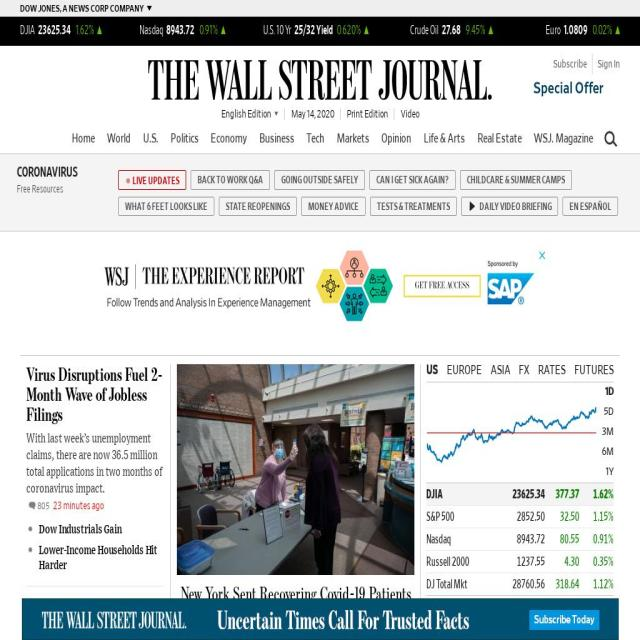button: (177, 364, 414, 575), (142, 46, 498, 100), (426, 626, 613, 640), (517, 76, 620, 101), (460, 170, 572, 190), (461, 197, 558, 216), (118, 197, 214, 216), (274, 170, 365, 190), (370, 170, 456, 190), (520, 600, 614, 618), (370, 197, 457, 216), (528, 127, 600, 149), (191, 170, 270, 190), (20, 4, 156, 15), (219, 197, 297, 216), (118, 170, 186, 190), (301, 197, 366, 216), (472, 127, 528, 149), (418, 127, 471, 149), (426, 600, 485, 618), (205, 127, 253, 149), (563, 197, 618, 216), (220, 105, 278, 123), (253, 127, 300, 149), (331, 127, 375, 149), (376, 127, 418, 149), (164, 127, 204, 149), (101, 127, 137, 149), (66, 127, 100, 149), (300, 127, 330, 149), (597, 125, 619, 154), (138, 127, 164, 149), (28, 500, 50, 512)
heading: (26, 595, 152, 640), (39, 545, 158, 572), (39, 524, 122, 536), (426, 637, 465, 640), (602, 636, 614, 640)
iframe: (92, 248, 548, 324)
image: (177, 364, 414, 575), (21, 598, 619, 640), (426, 382, 598, 482), (517, 76, 620, 99), (598, 124, 618, 153), (125, 176, 133, 184), (468, 202, 476, 210)
link: (26, 364, 162, 587), (180, 583, 411, 624), (558, 63, 620, 104), (598, 63, 620, 104), (17, 165, 77, 179), (346, 113, 388, 125), (400, 113, 419, 125)
text: (26, 433, 162, 495), (20, 324, 620, 338), (20, 4, 144, 14), (426, 488, 502, 502), (426, 533, 502, 547), (426, 578, 502, 592), (426, 511, 502, 524), (426, 556, 502, 569), (177, 636, 411, 640), (479, 202, 552, 212), (53, 500, 105, 512), (501, 488, 545, 502), (501, 533, 545, 547), (501, 578, 545, 592), (501, 511, 545, 524), (501, 556, 545, 569), (574, 364, 614, 378), (290, 108, 334, 120), (132, 176, 180, 187), (17, 184, 63, 195), (446, 364, 482, 378), (221, 109, 271, 119), (579, 488, 614, 502), (579, 533, 614, 547), (579, 578, 614, 592), (294, 25, 334, 37), (545, 488, 579, 502), (545, 533, 579, 547), (545, 578, 579, 592), (579, 511, 614, 524), (579, 556, 614, 569), (545, 511, 579, 524), (545, 556, 579, 569), (38, 25, 72, 37), (538, 364, 566, 378), (166, 25, 196, 37), (410, 25, 439, 37), (263, 25, 291, 37), (598, 382, 614, 402), (598, 402, 614, 422), (598, 422, 614, 442), (598, 442, 614, 462), (598, 462, 614, 482), (490, 364, 511, 378), (139, 25, 163, 37), (337, 25, 361, 37), (564, 25, 588, 37), (442, 25, 462, 37), (592, 25, 612, 37), (75, 25, 94, 37), (466, 25, 485, 37), (200, 25, 218, 37), (20, 25, 35, 37), (546, 25, 560, 37), (426, 364, 438, 378), (519, 364, 530, 378), (37, 502, 49, 511), (220, 26, 226, 36), (97, 26, 102, 36), (488, 26, 493, 36), (615, 26, 620, 36), (364, 26, 368, 36)
